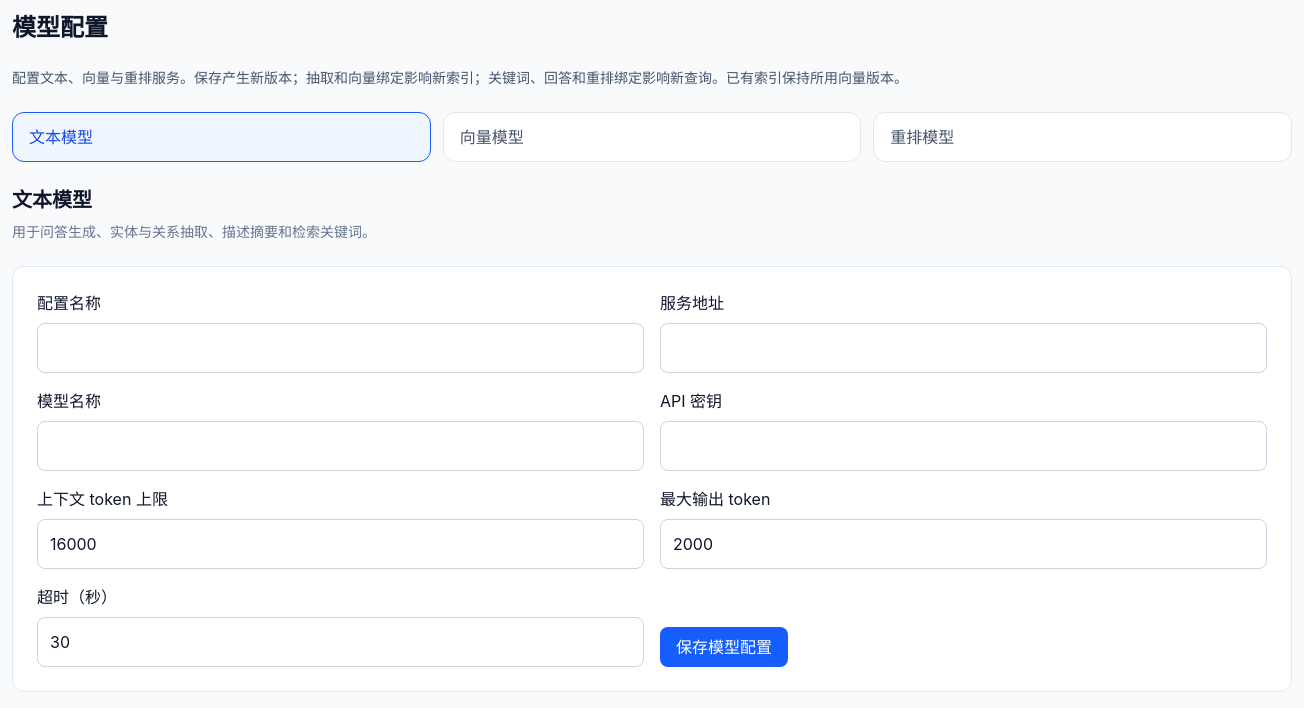
creates a RERANK configuration within its own category
Click the button "重排模型" at {"x": 922, "y": 137}, box top-left (873, 112), bottom-right (1292, 162)
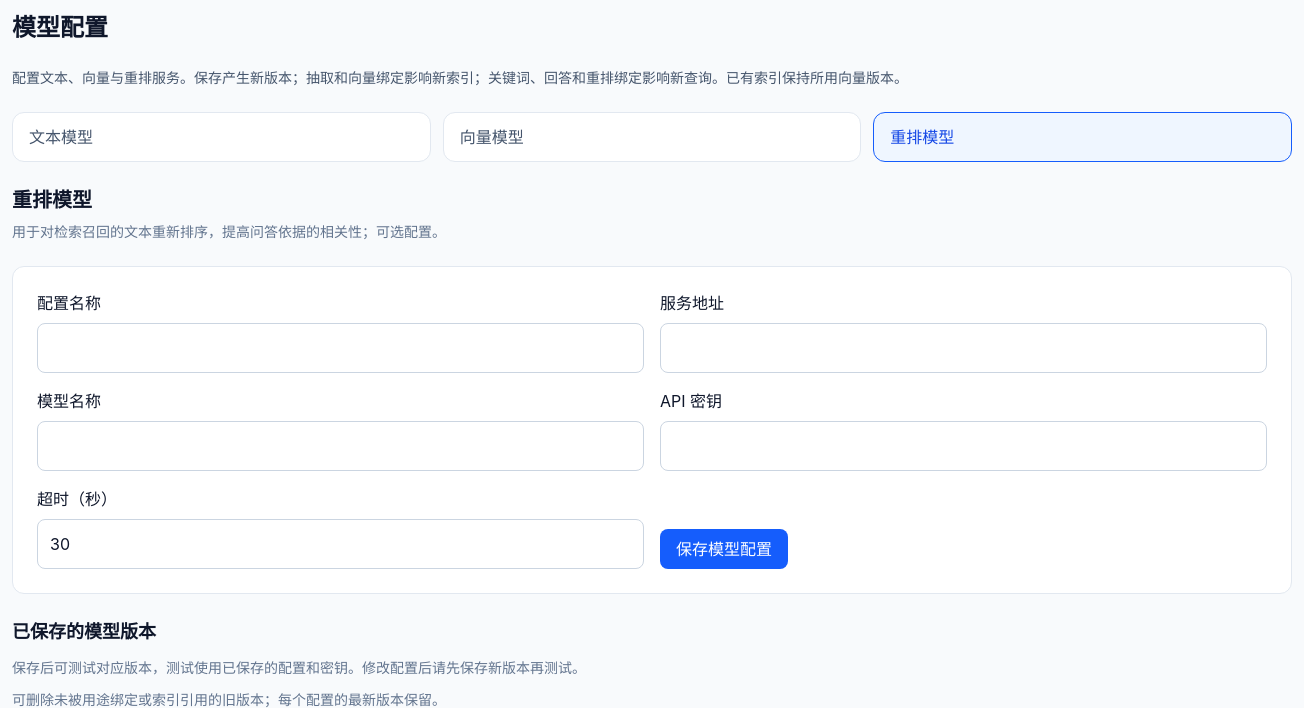
Type "新配置" into the field labelled "配置名称" at {"x": 340, "y": 348}, box top-left (37, 323), bottom-right (644, 373)
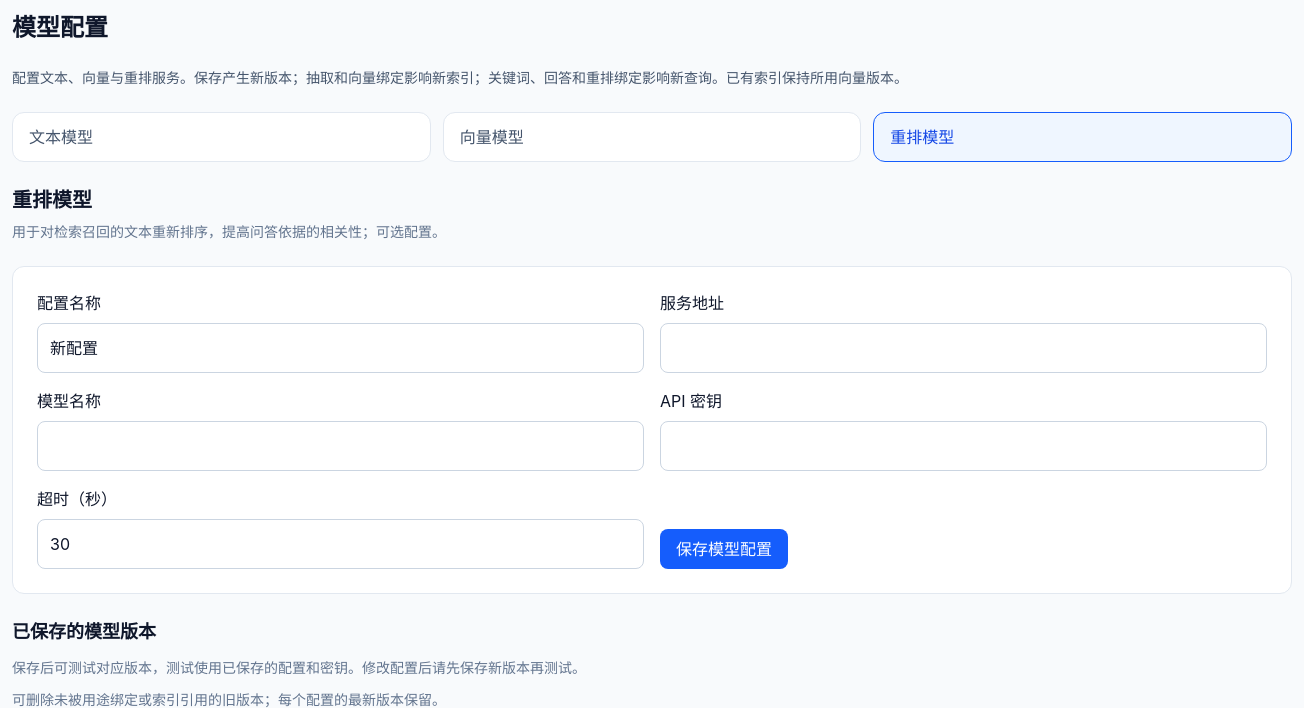
Type "https://example.com/v1" into the field labelled "服务地址" at {"x": 964, "y": 348}, box top-left (660, 323), bottom-right (1267, 373)
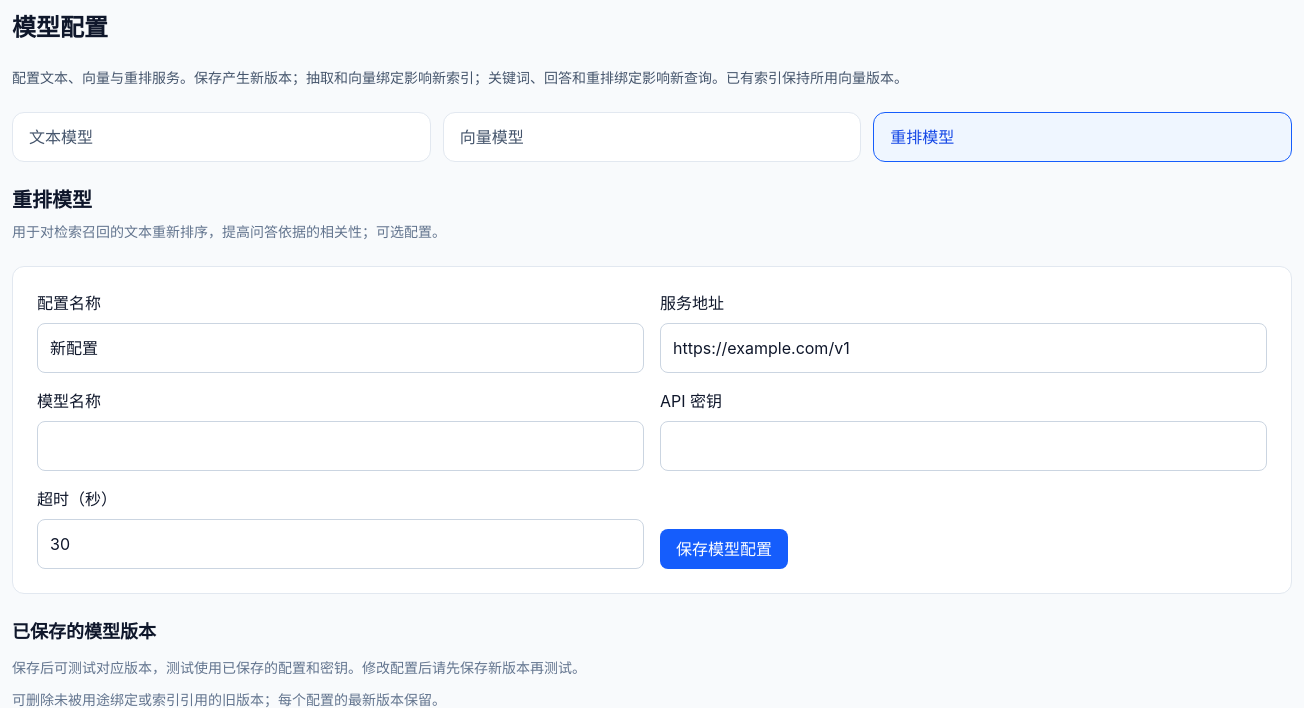
Type "example" into the field labelled "模型名称" at {"x": 340, "y": 446}, box top-left (37, 421), bottom-right (644, 471)
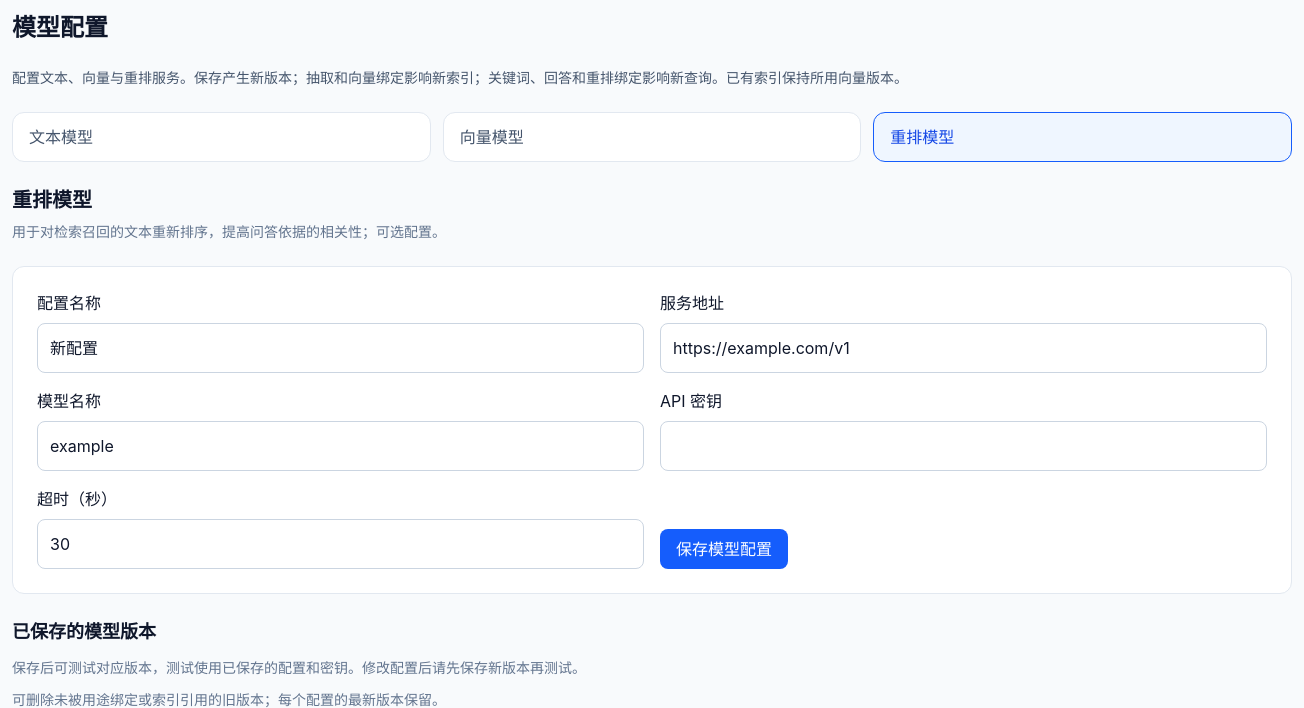
Click the button "保存模型配置" at {"x": 724, "y": 549}, box top-left (660, 529), bottom-right (788, 569)
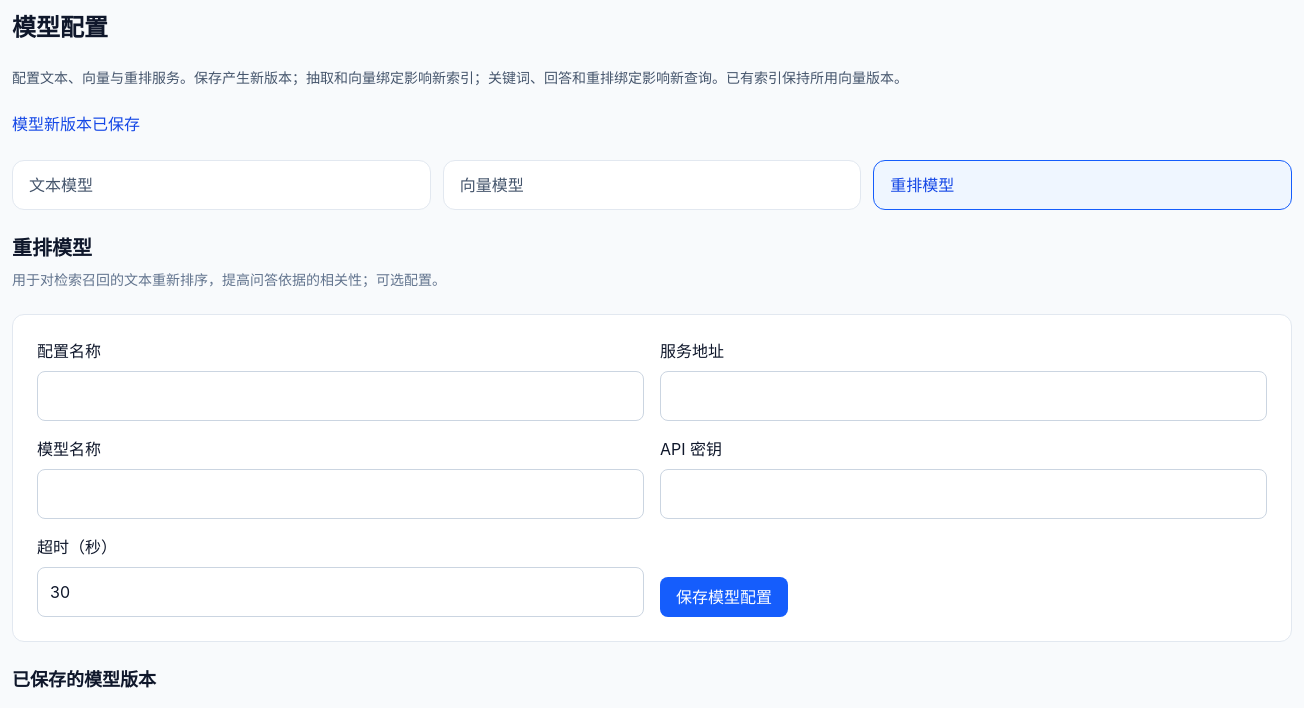
Expected: the text "模型新版本已保存" is shown, top-left (12, 114), bottom-right (140, 134)
